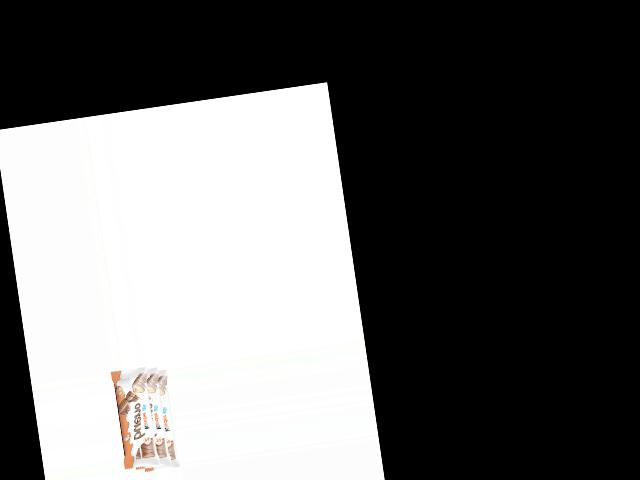chocolate: (109, 366, 180, 474)
